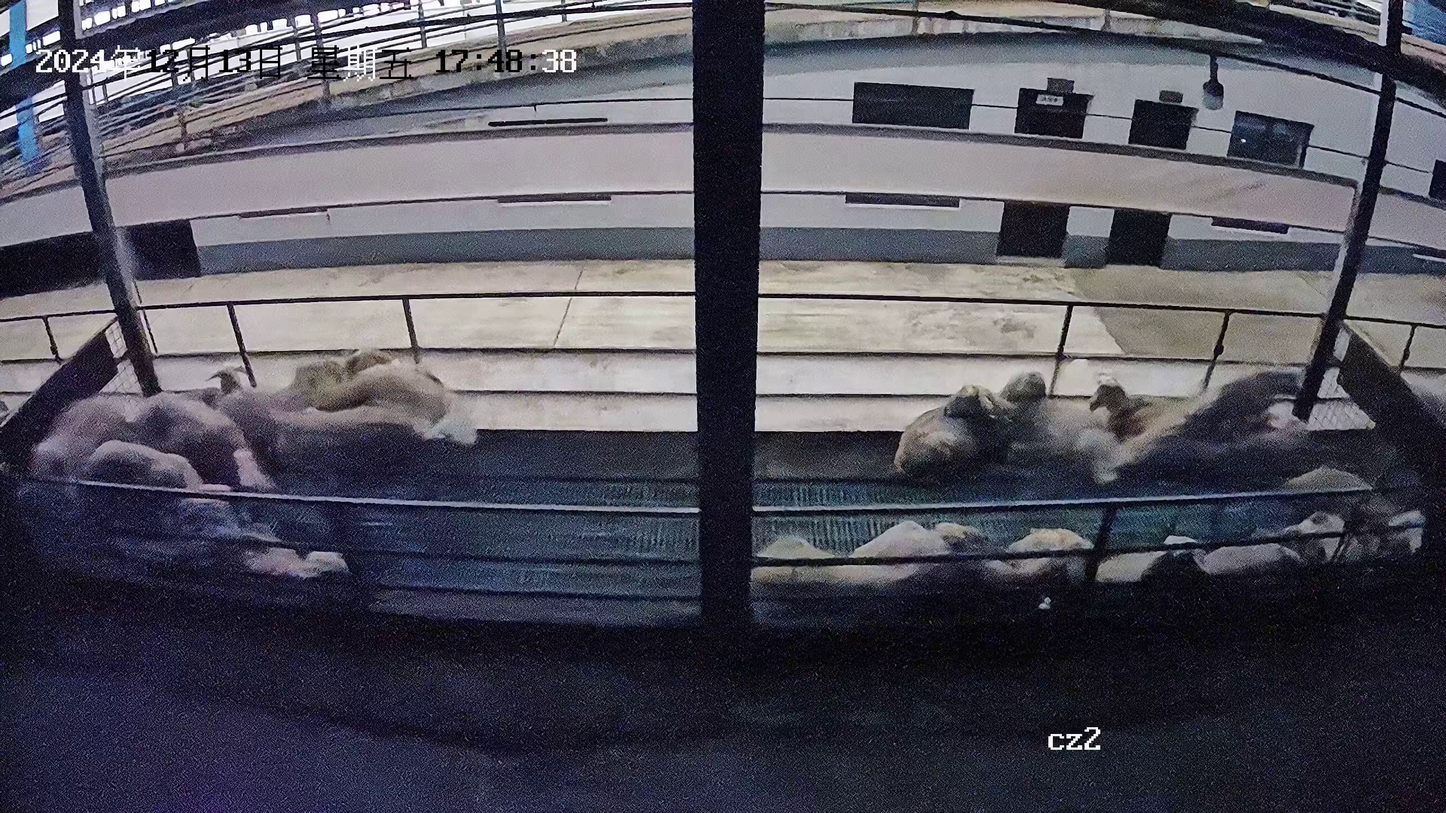Smounting: (1100, 368, 1322, 539)
mounted: (1198, 406, 1317, 534)
